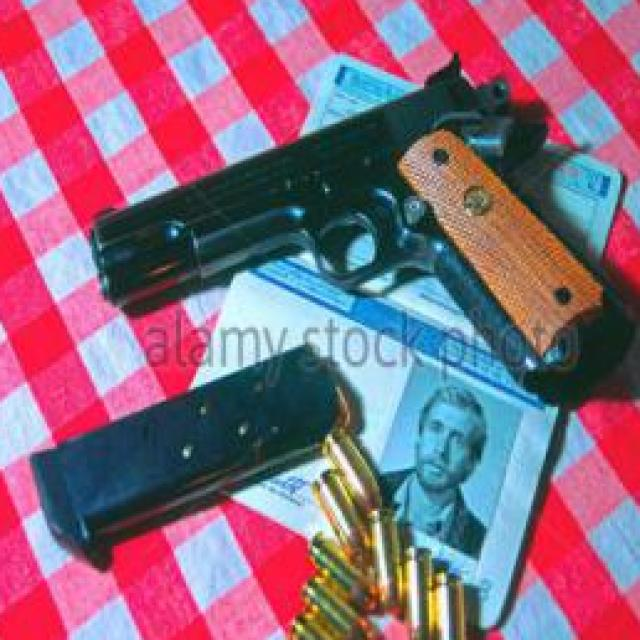pistol: (87, 48, 634, 400)
